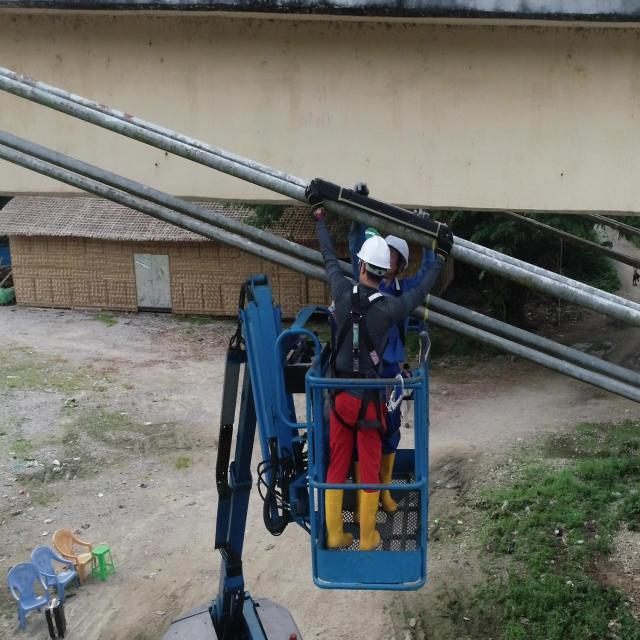corrosion: (23, 78, 38, 88), (8, 71, 22, 81), (95, 103, 109, 113), (122, 114, 134, 122)
crack: (571, 289, 576, 299)
